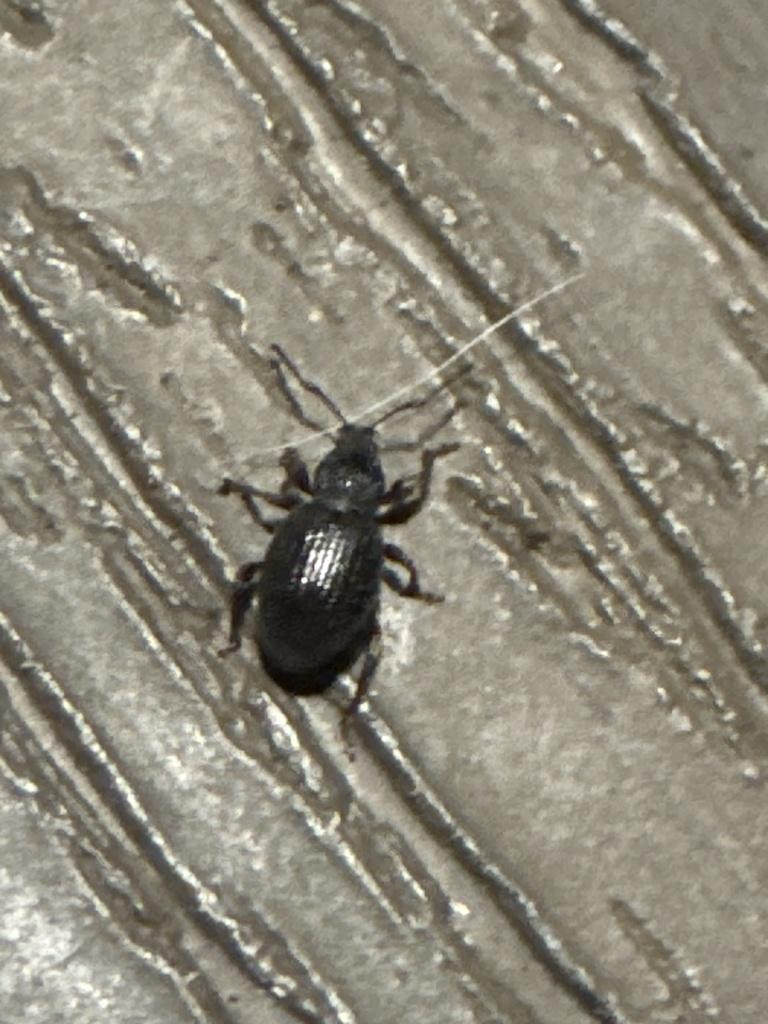weevils: (144, 299, 531, 801)
